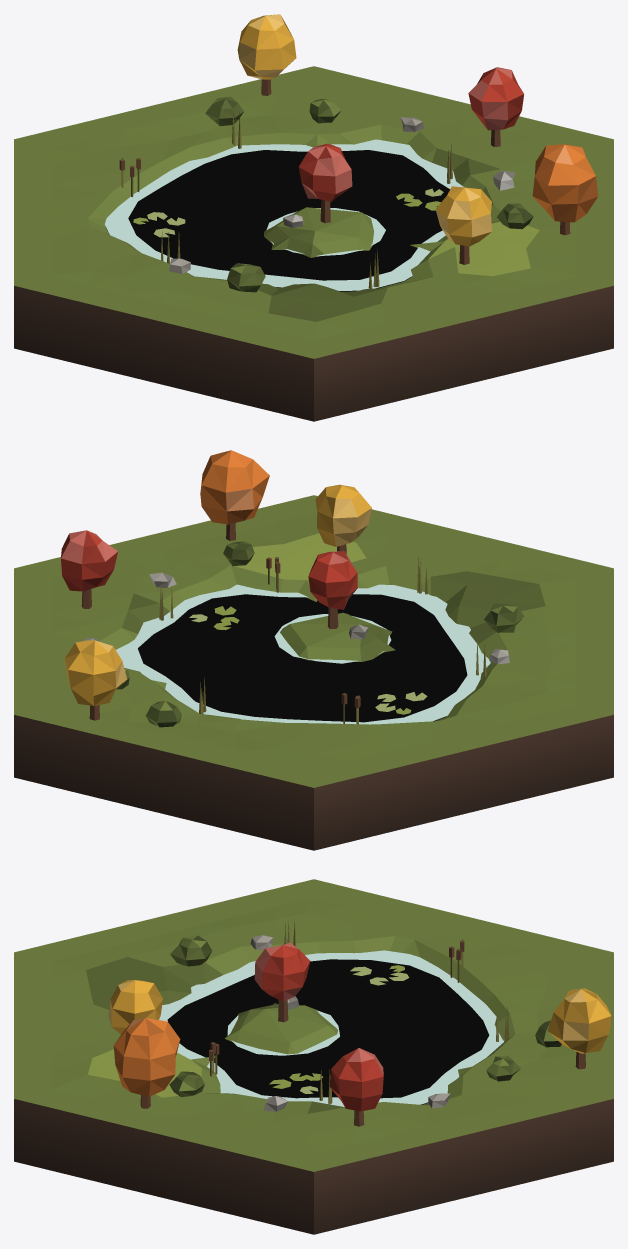
File: SM_Tile_Lake_B.fbx
The picture shows the model from 3 angles, top to bottom: view 1: azimuth 30°, elevation 25°; view 2: azimuth 150°, elevation 25°; view 3: azimuth 270°, elevation 25°; orthographic projection.
Parts seen in each view (by area): view 1: SM_Tile_Lake_B; view 2: SM_Tile_Lake_B; view 3: SM_Tile_Lake_B.
Boxes of the visible parts, <box> form: SM_Tile_Lake_B: <box>14,14,613,421</box>; SM_Tile_Lake_B: <box>14,450,613,850</box>; SM_Tile_Lake_B: <box>14,879,613,1234</box>.
Size of the model in its own units: 20 by 4.84 by 17.32.
